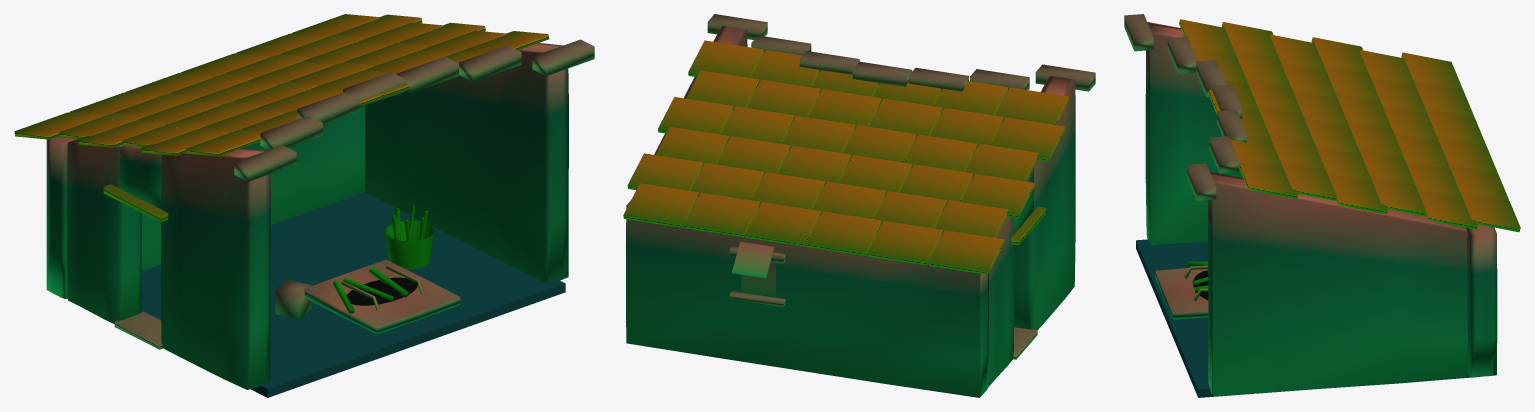
Rendered from keepers_hut.glb.
3 renders of one model, left to right at view 1: azimuth 30°, elevation 25°; view 2: azimuth 150°, elevation 25°; view 3: azimuth 270°, elevation 25°, orthographic. The views are drawn at different scales.
Parts seen in each view (by area): view 1: keepers_hut; view 2: keepers_hut; view 3: keepers_hut.
Part boxes in pixels (bbox=[...]): keepers_hut: bbox=[14, 14, 594, 397]; keepers_hut: bbox=[623, 14, 1095, 397]; keepers_hut: bbox=[1124, 14, 1520, 397].
Size of what is drawn, in the model's own units: 7.88 by 4.08 by 6.62.
